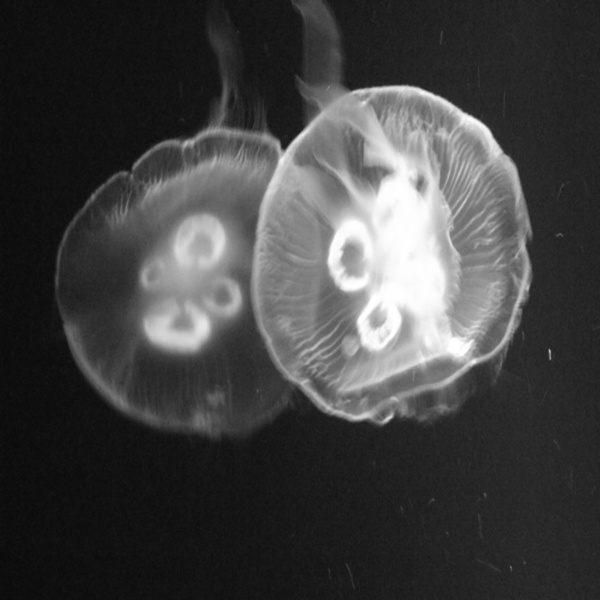Jellyfish: (250, 0, 533, 428), (55, 0, 320, 441)
